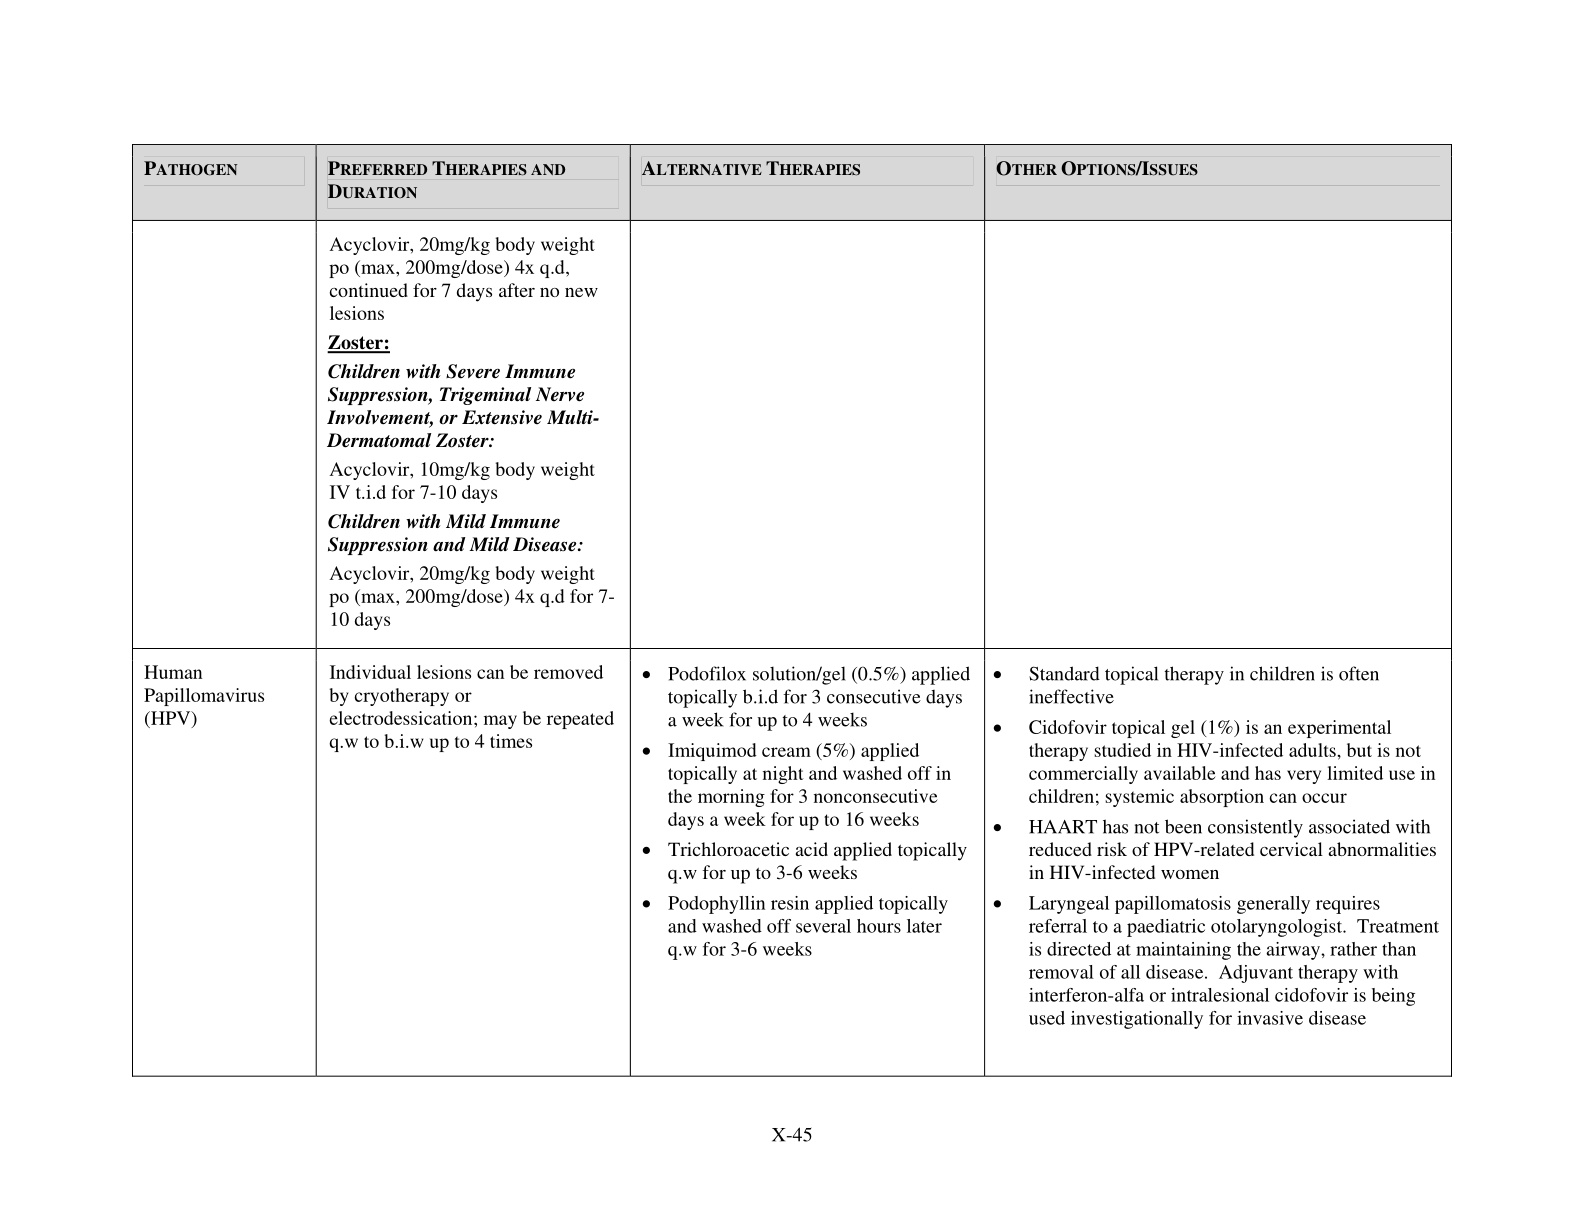full_lined: (130, 141, 1453, 1077)
